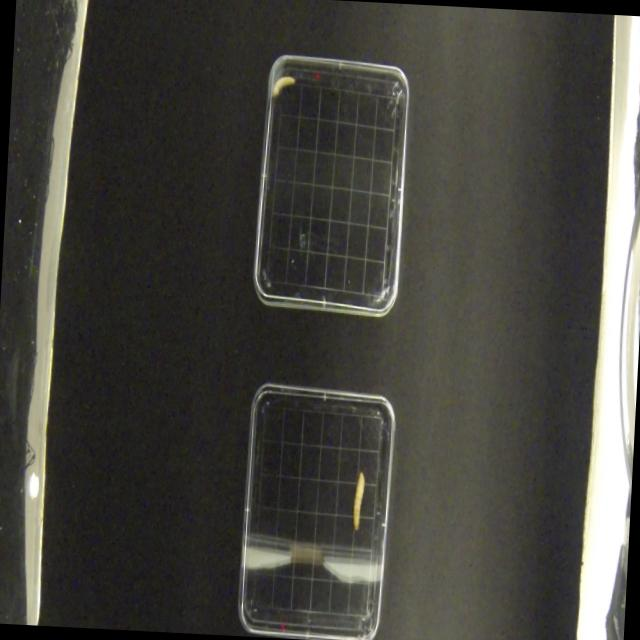larva: (346, 472, 370, 534), (272, 72, 298, 101)
